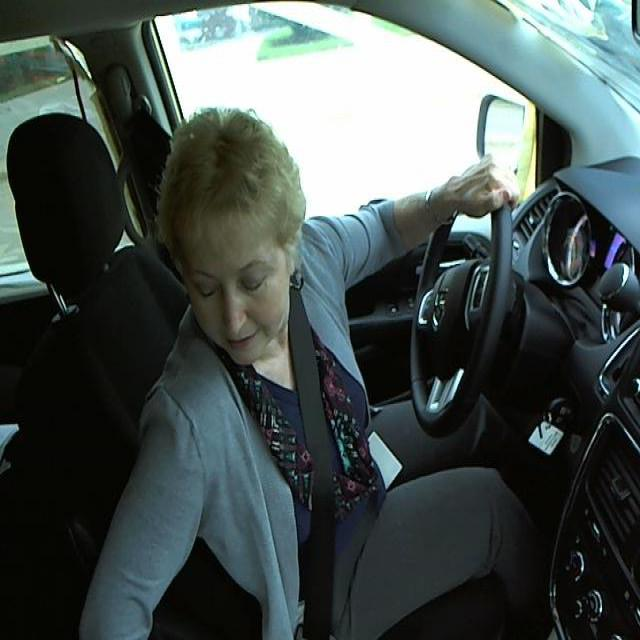seatbelt: (287, 307, 345, 620)
